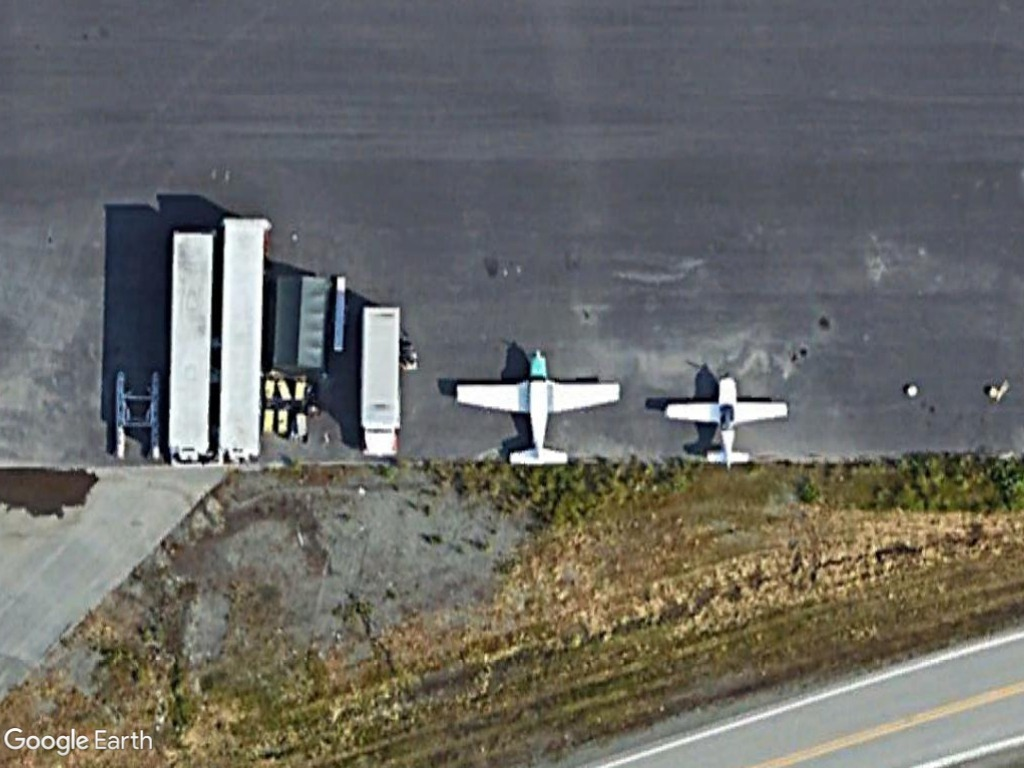longvehicle: (217, 205, 266, 469), (167, 222, 215, 470)
trainer: (446, 345, 627, 472), (660, 371, 792, 470)
truck: (354, 299, 405, 460)
